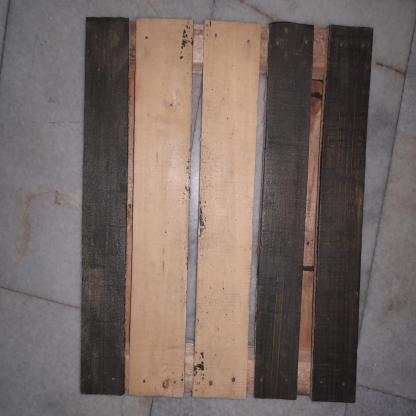Wooden-Pallet: (78, 12, 375, 406)
